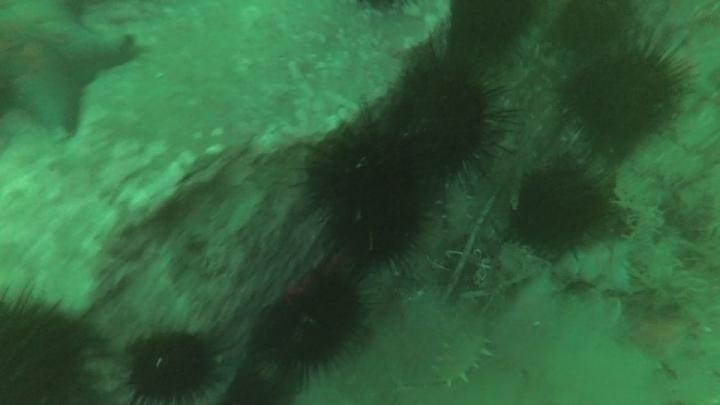echinus: (303, 124, 432, 273), (385, 50, 512, 184), (556, 32, 694, 155), (250, 267, 372, 384), (1, 283, 102, 405), (508, 160, 612, 256), (121, 328, 224, 404), (447, 1, 537, 57), (549, 1, 635, 53)
holothurian: (429, 312, 497, 389), (438, 177, 477, 242)
starfish: (1, 7, 141, 138), (614, 302, 702, 378), (553, 231, 644, 298)
